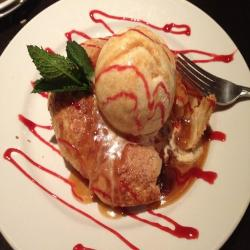apple_pie: (47, 57, 221, 214)
icecream: (89, 22, 181, 137)
